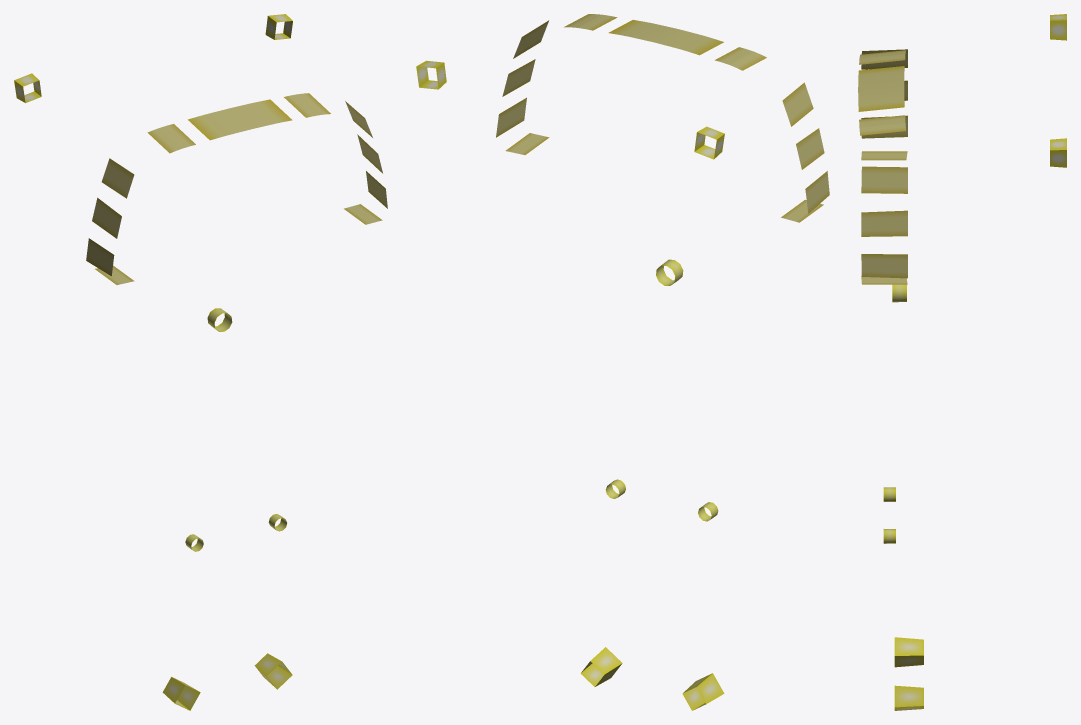
File: MigratorLightUpBits.fbx
3 views of the same model, side by side, from view 1: azimuth 30°, elevation 25°; view 2: azimuth 150°, elevation 25°; view 3: azimuth 270°, elevation 25° (orthographic). The views are drawn at different scales.
Parts seen in each view (by area): view 1: WindowBack2, WindowBack1, WindowLeft3, LanternLightFrontRight, LanternLightFrontLeft, WindowLeft2, WindowBack3, WindowLeft1; view 2: WindowBack2, LanternLightFrontRight, LanternLightFrontLeft, WindowLeft3, WindowLeft2, WindowBack1, LanternBackLeft, LanternBackRight, WindowRight3; view 3: WindowBack2, WindowRight1, WindowRight2, WindowRight3, LanternLightFrontLeft, WindowBack3, LanternLightFrontRight, WindowBack1, LanternBackRight, WindowFront2, WindowLeft3, LanternBackLeft (+1 smaller).
Boxes of the visible parts, x1=… form: WindowBack2: x1=188, y1=99, x2=292, y2=140; WindowBack1: x1=147, y1=124, x2=195, y2=153; WindowLeft3: x1=101, y1=158, x2=134, y2=198; LanternLightFrontRight: x1=254, y1=653, x2=292, y2=689; LanternLightFrontLeft: x1=162, y1=677, x2=200, y2=710; WindowLeft2: x1=92, y1=197, x2=121, y2=238; WindowBack3: x1=284, y1=93, x2=330, y2=117; WindowLeft1: x1=86, y1=238, x2=114, y2=275; WindowBack2: x1=608, y1=20, x2=723, y2=55; LanternLightFrontRight: x1=580, y1=647, x2=622, y2=686; LanternLightFrontLeft: x1=682, y1=673, x2=724, y2=710; WindowLeft3: x1=782, y1=82, x2=813, y2=126; WindowLeft2: x1=796, y1=128, x2=824, y2=169; WindowBack1: x1=715, y1=47, x2=766, y2=70; LanternBackLeft: x1=694, y1=126, x2=724, y2=159; LanternBackRight: x1=416, y1=60, x2=446, y2=89; WindowRight3: x1=496, y1=97, x2=526, y2=137; WindowBack2: x1=858, y1=66, x2=904, y2=111; WindowRight1: x1=861, y1=166, x2=907, y2=193; WindowRight2: x1=861, y1=210, x2=907, y2=236; WindowRight3: x1=861, y1=254, x2=907, y2=278; LanternLightFrontLeft: x1=894, y1=637, x2=923, y2=667; WindowBack3: x1=859, y1=115, x2=905, y2=135; LanternLightFrontRight: x1=894, y1=685, x2=923, y2=710; WindowBack1: x1=859, y1=50, x2=905, y2=64; LanternBackRight: x1=1050, y1=138, x2=1066, y2=167; WindowFront2: x1=861, y1=151, x2=907, y2=160; WindowLeft3: x1=861, y1=49, x2=907, y2=69; LanternBackLeft: x1=1050, y1=14, x2=1066, y2=40.
Size of the model in its own units: 915 by 1841 by 571.
